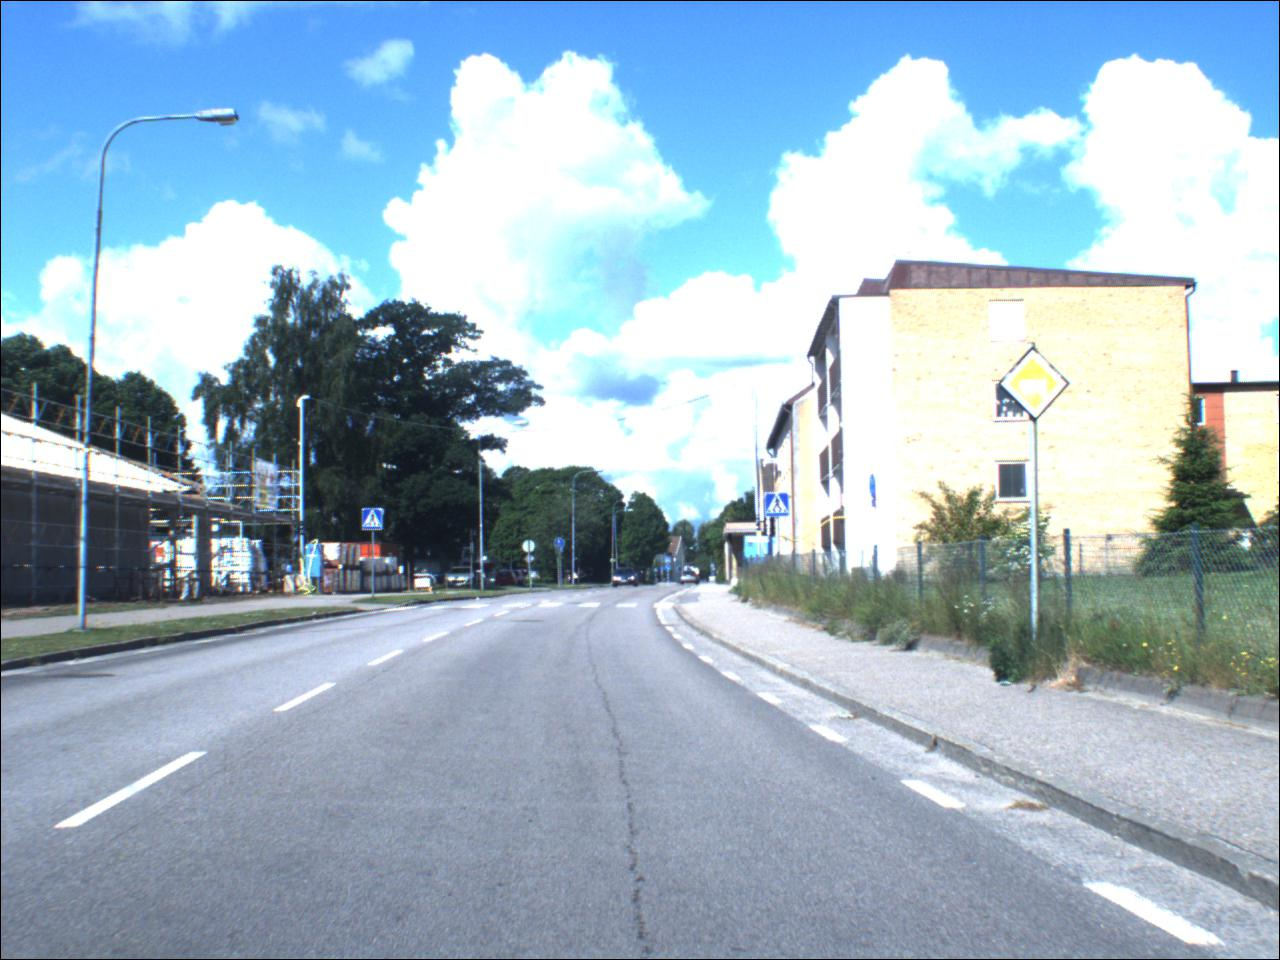PASS_RIGHT_SIDE: (666, 567, 673, 573)
PEDESTRIAN_CROSSING: (766, 494, 792, 519), (364, 508, 386, 533), (667, 557, 674, 566)
PRIORITY_ROAD: (1003, 344, 1072, 422)
